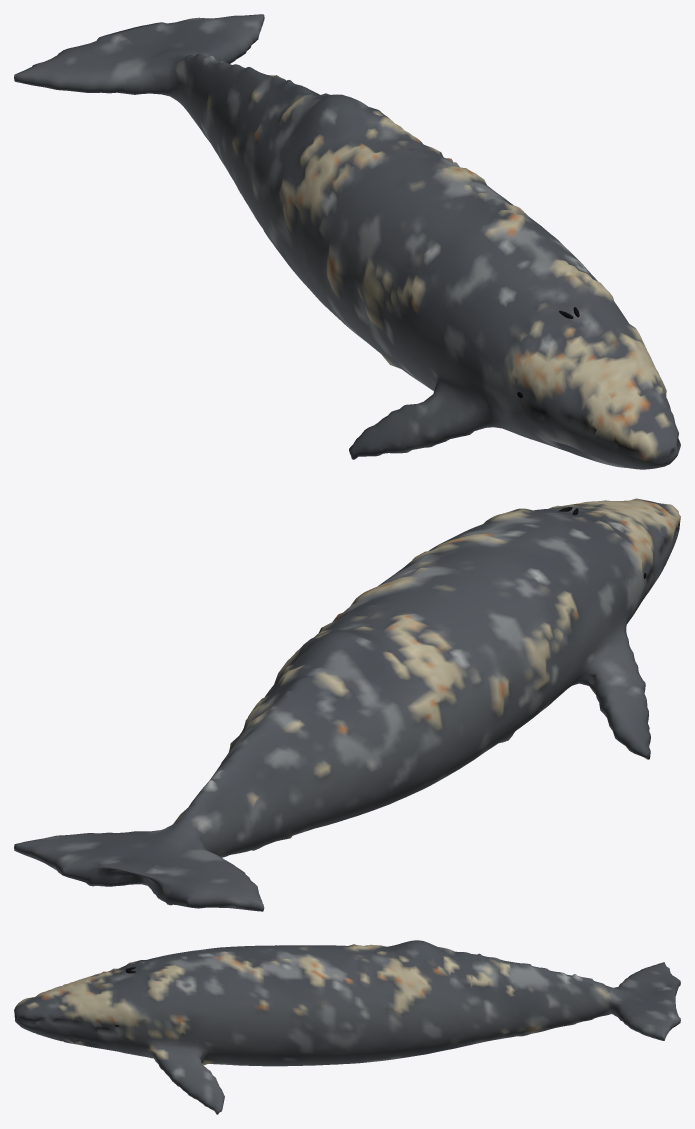
Rendered from GreyWhale.fbx.
3 views of the same model, one above another, from view 1: azimuth 30°, elevation 25°; view 2: azimuth 150°, elevation 25°; view 3: azimuth 270°, elevation 25° (orthographic). The views are drawn at different scales.
Parts seen in each view (by area): view 1: GreyWhale; view 2: GreyWhale; view 3: GreyWhale.
Part boxes in pixels (x1,y1,x2,y2): GreyWhale: (14, 14, 680, 469); GreyWhale: (14, 498, 680, 911); GreyWhale: (14, 940, 680, 1114).
Bounding box in the file's own units: 0.6287 × 0.415 × 1.97.
